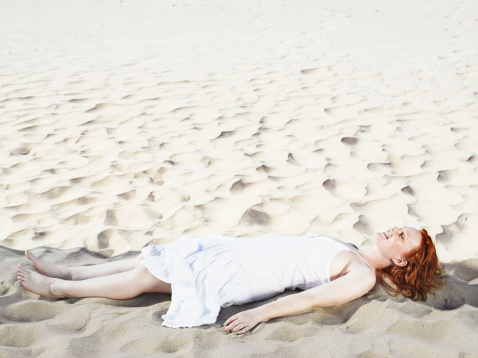deitado: (0, 212, 478, 339)
